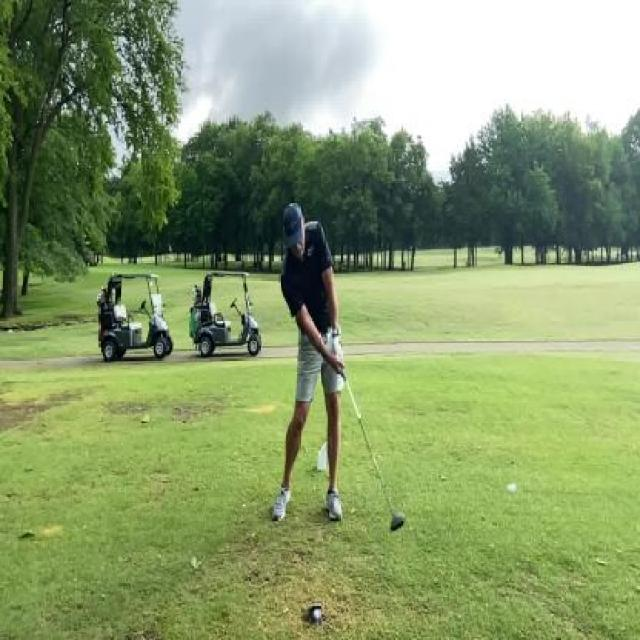club head: (390, 508, 405, 532)
